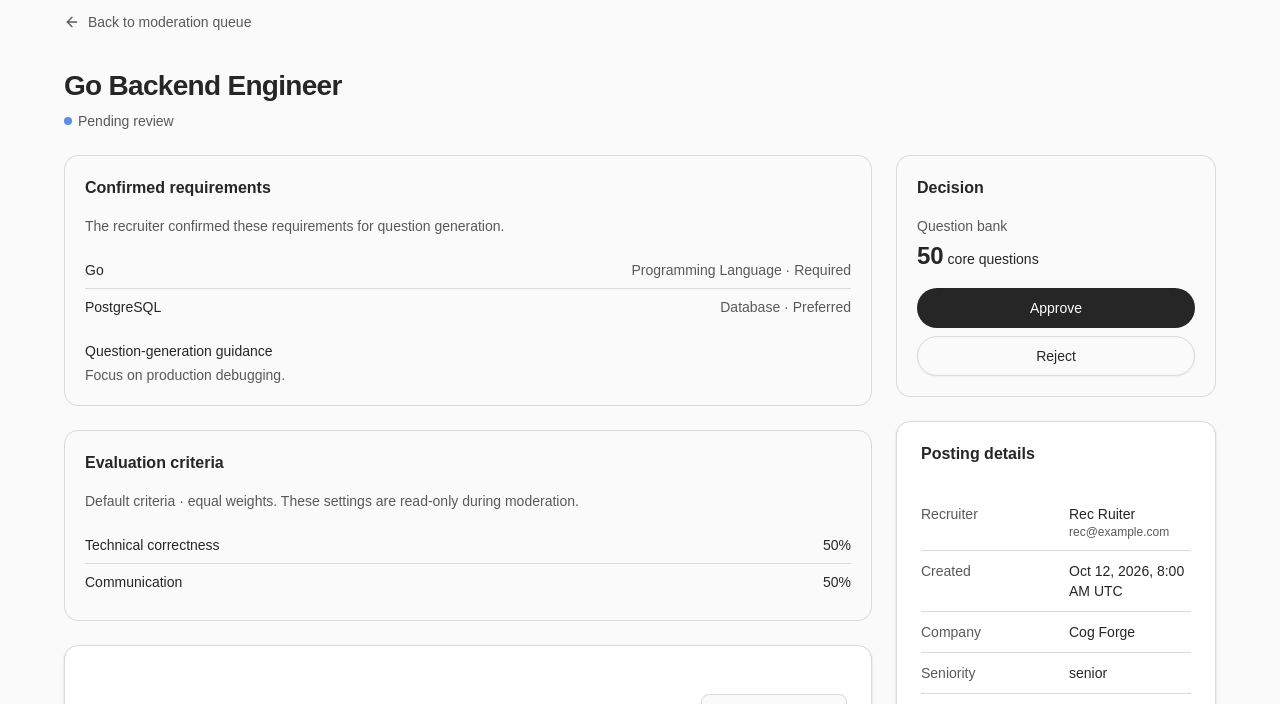
Test case: PostingReview › requires a reason to reject and sends exactly what Go accepts
The image size is (1280, 704).
Click the button "Reject". click: (1056, 356)
box: [917,336,1195,376]
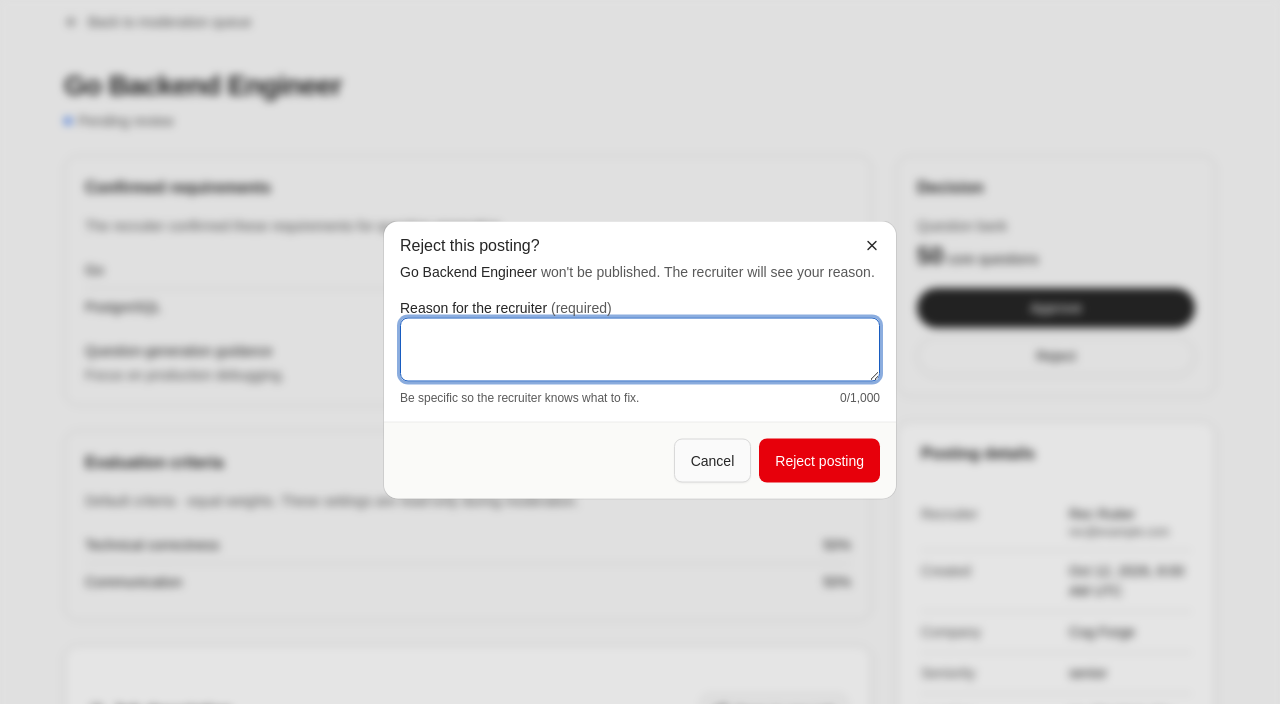
Click the button "Reject posting". click: (820, 460)
box: [759,438,880,482]
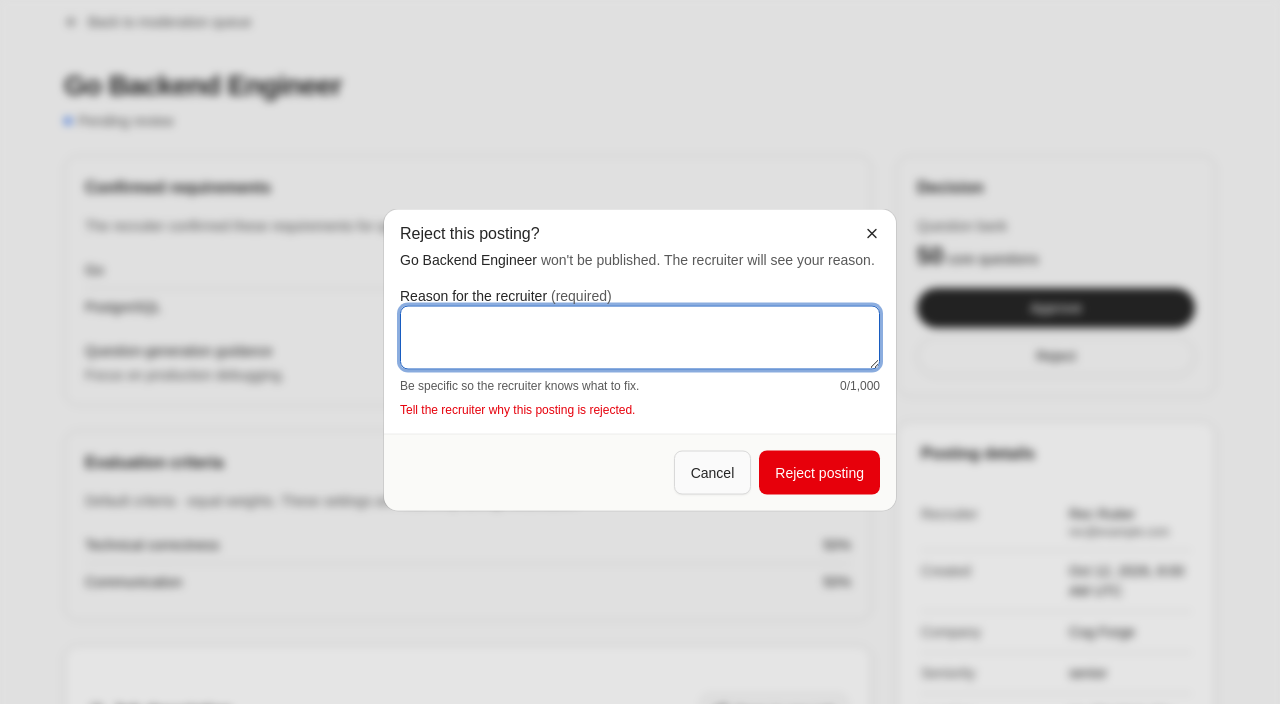
Result: the message shows "Tell the recruiter why" at [400,402,635,416]
Type "  Salary is missing  " into the text box labelled "Reason for the recruiter (required)". click: (640, 338)
box: [400,306,880,370]
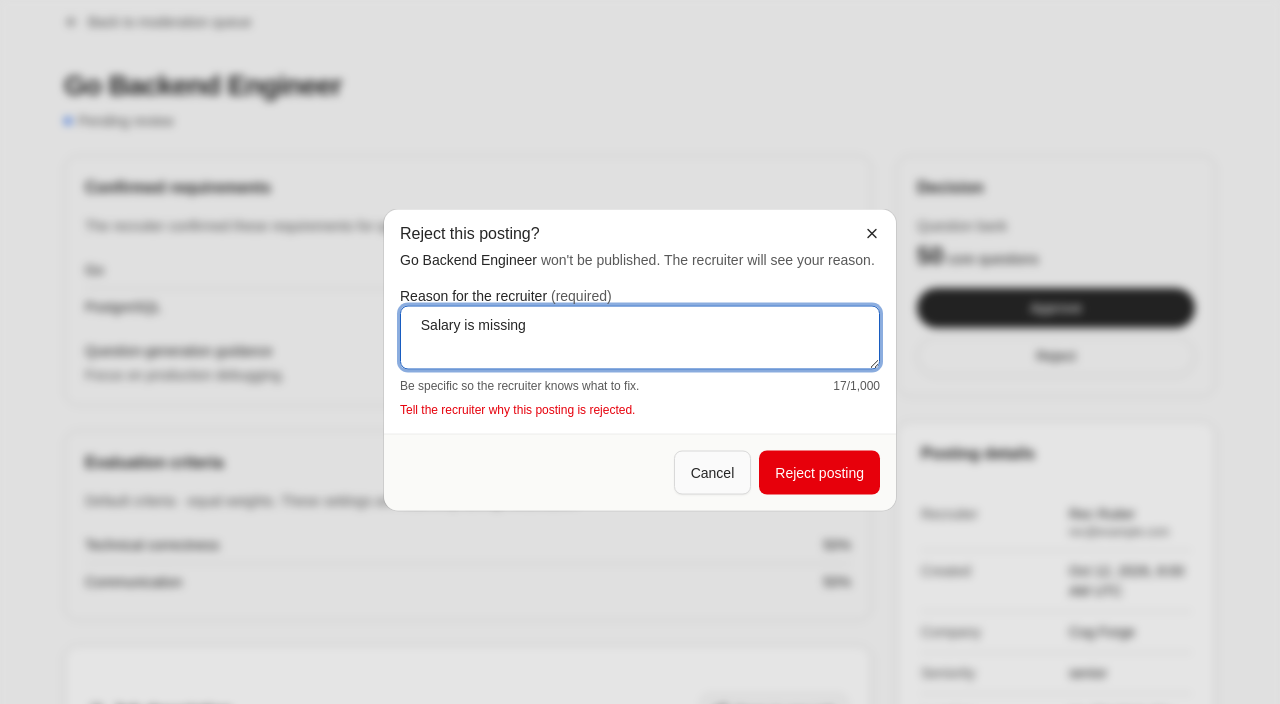
Click the button "Reject posting". click: (820, 472)
box: [759,450,880,494]
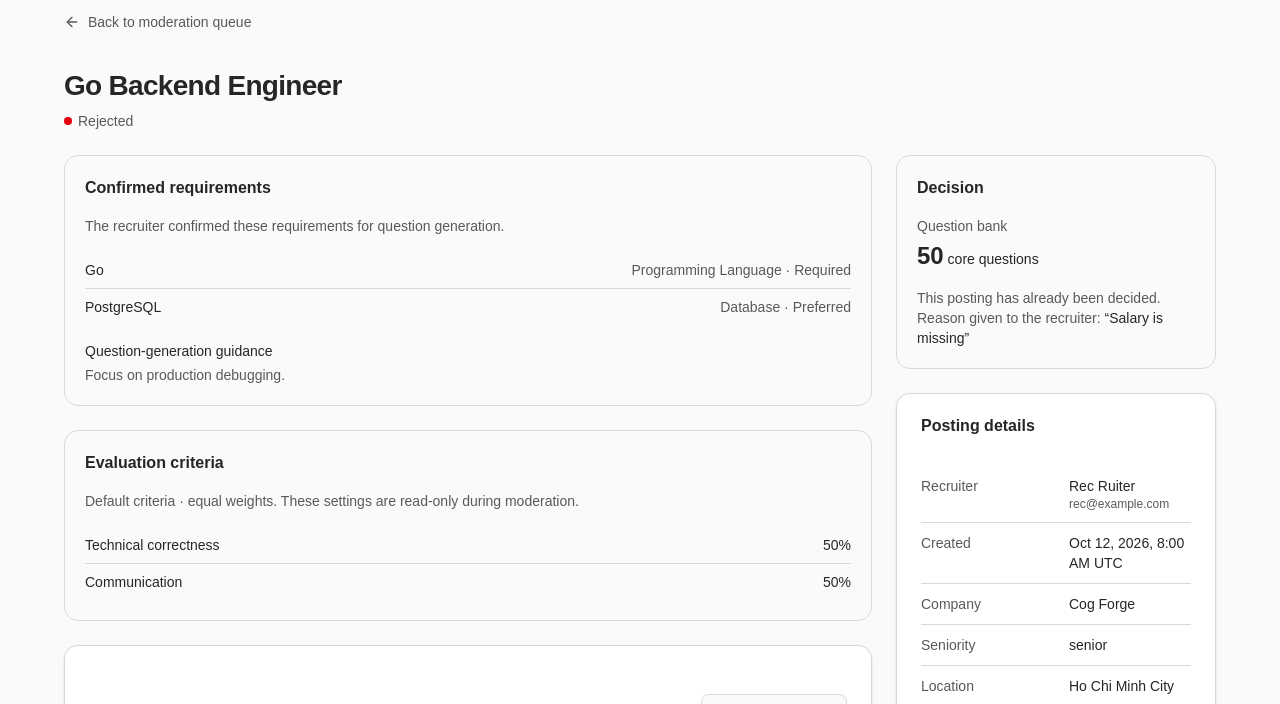
Result: the text "“Salary is missing”" is shown at [917,310,1163,346]
